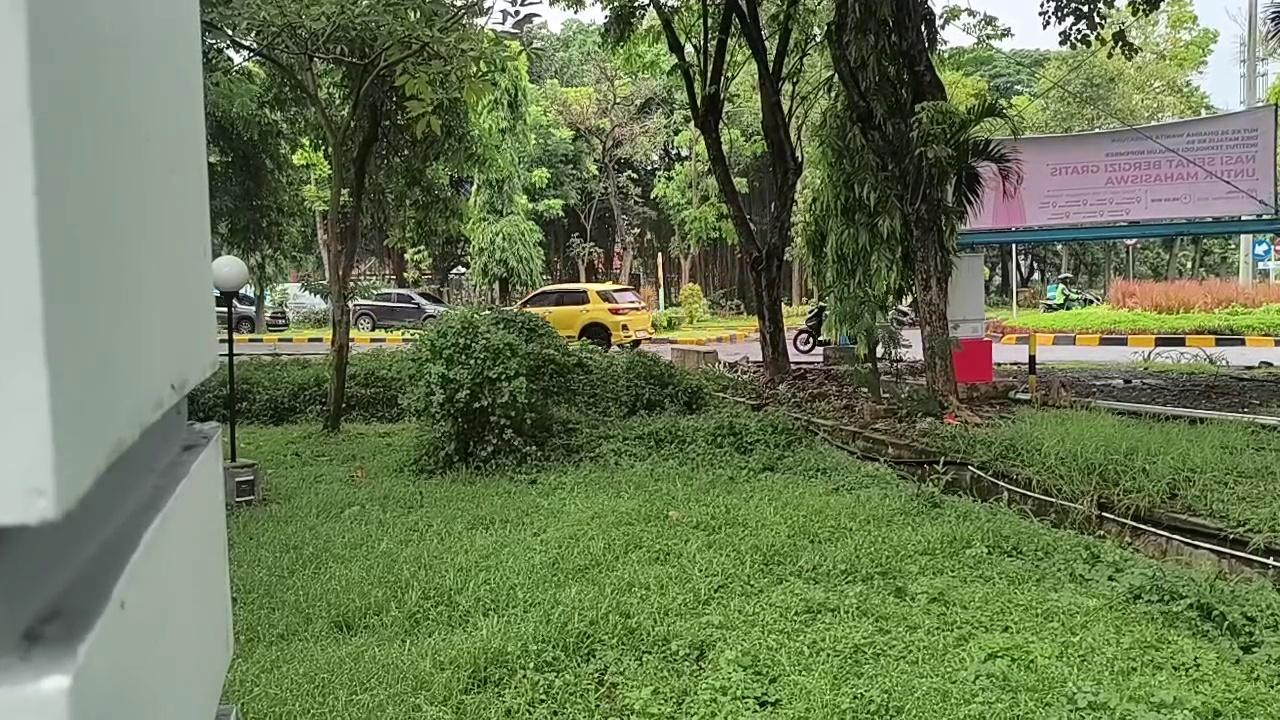Helmet: (1046, 273, 1079, 307)
Motor: (792, 303, 829, 354), (1041, 291, 1101, 312), (890, 304, 917, 329)
